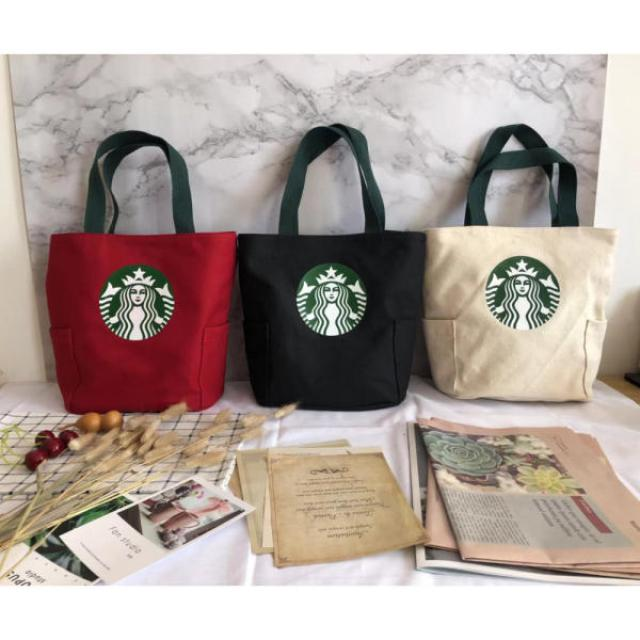ecobag: (28, 131, 238, 409), (234, 115, 433, 405), (419, 125, 616, 406)
